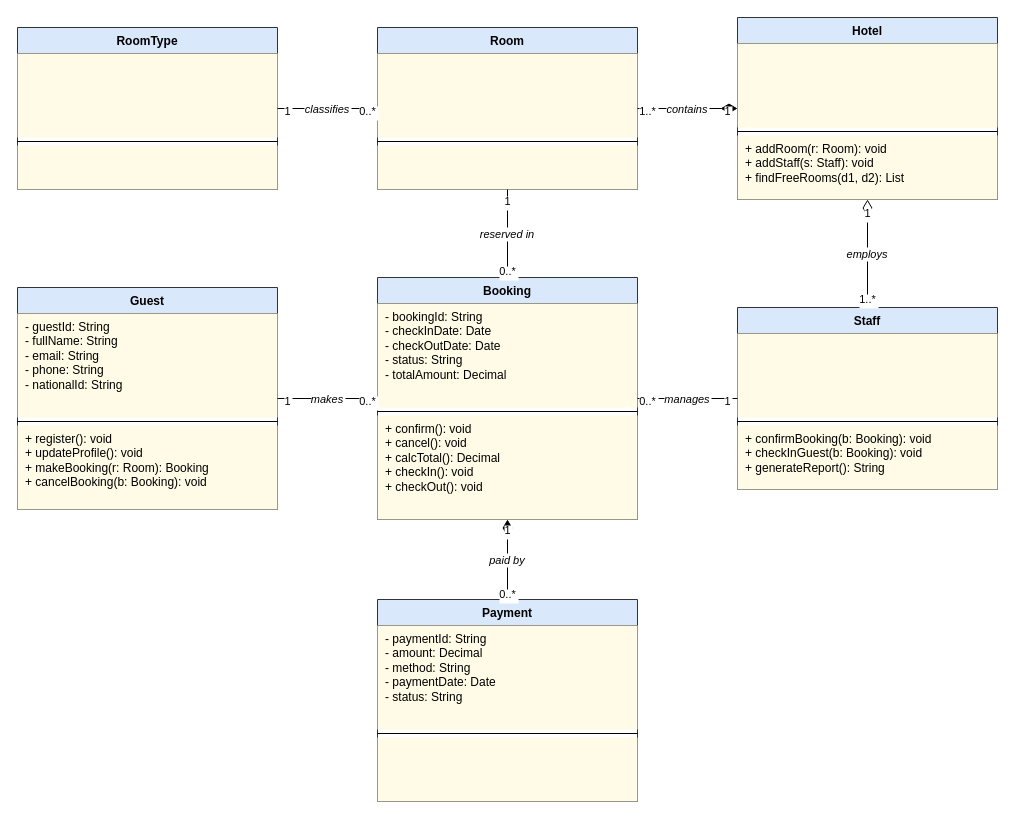
Some shapes in this 1015 by 822 pixel diagram are drawn without their labels. Each missing label, with the centre of its shape:
+ isAvailable(d1, d2): bool + setStatus(s: String): void: point 507,167
+ process(): bool + refund(): void + printReceipt(): String: point 507,769
+ updatePrice(p: Decimal): void + getDetails(): String: point 147,167
- hotelId: String - name: String - address: String - phone: String: point 867,85
- roomId: String - roomNumber: String - floor: int - status: String: point 507,95
- staffId: String - fullName: String - role: String - email: String: point 867,375
- typeId: String - typeName: String - pricePerNight: Decimal - capacity: int: point 147,95
